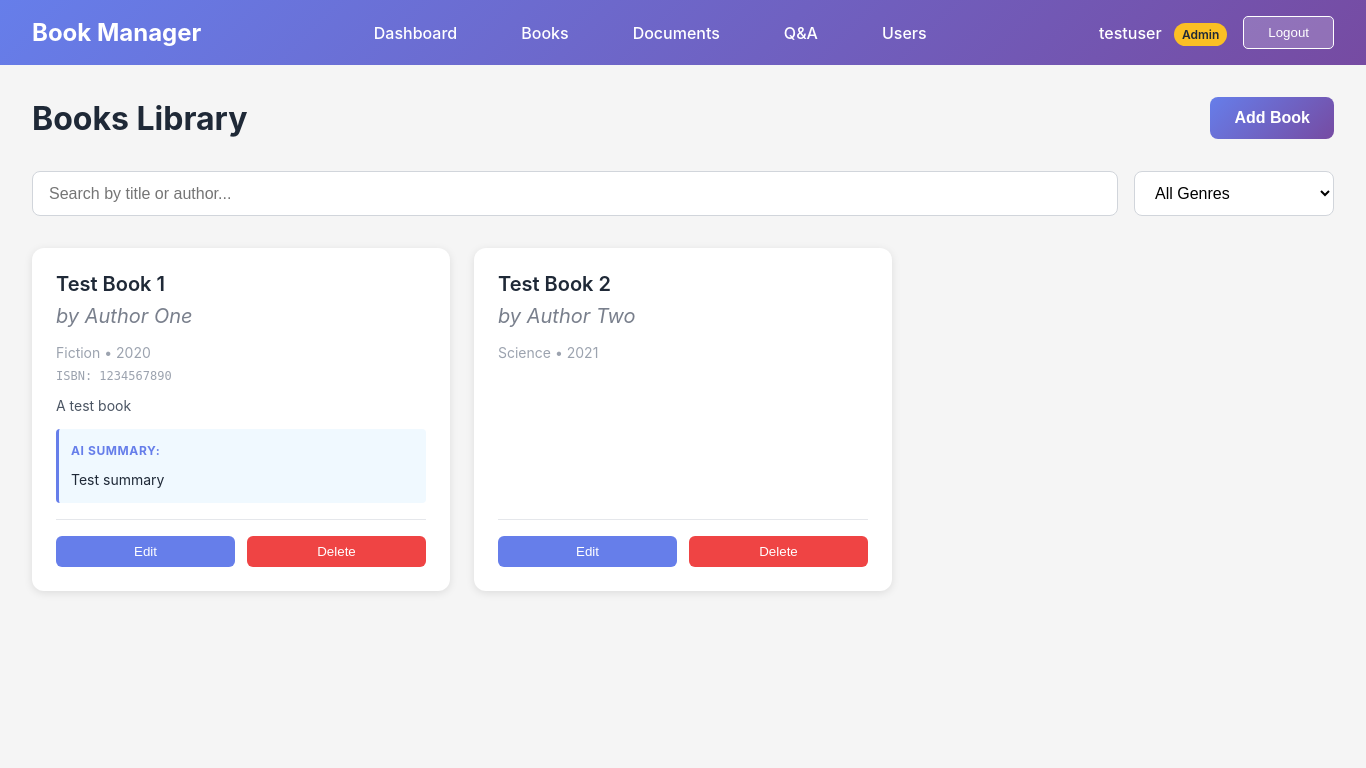
Test: Books Component › Edit book functionality › should handle update error
Click the button "Edit" below "Test summary": (146,552) [56,536,235,567]
(page scrolled)
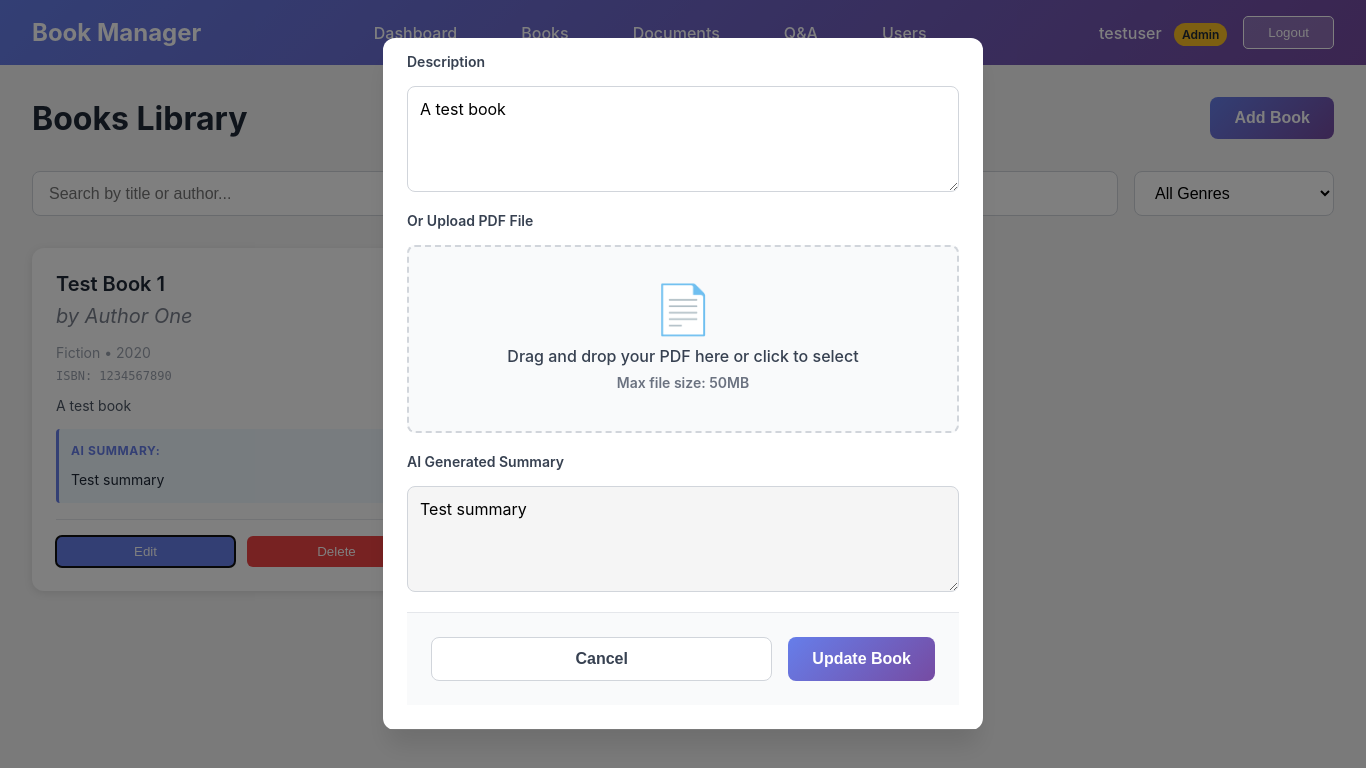
Click the button "Update Book": (862,659) [788,637,935,681]
(page scrolled)
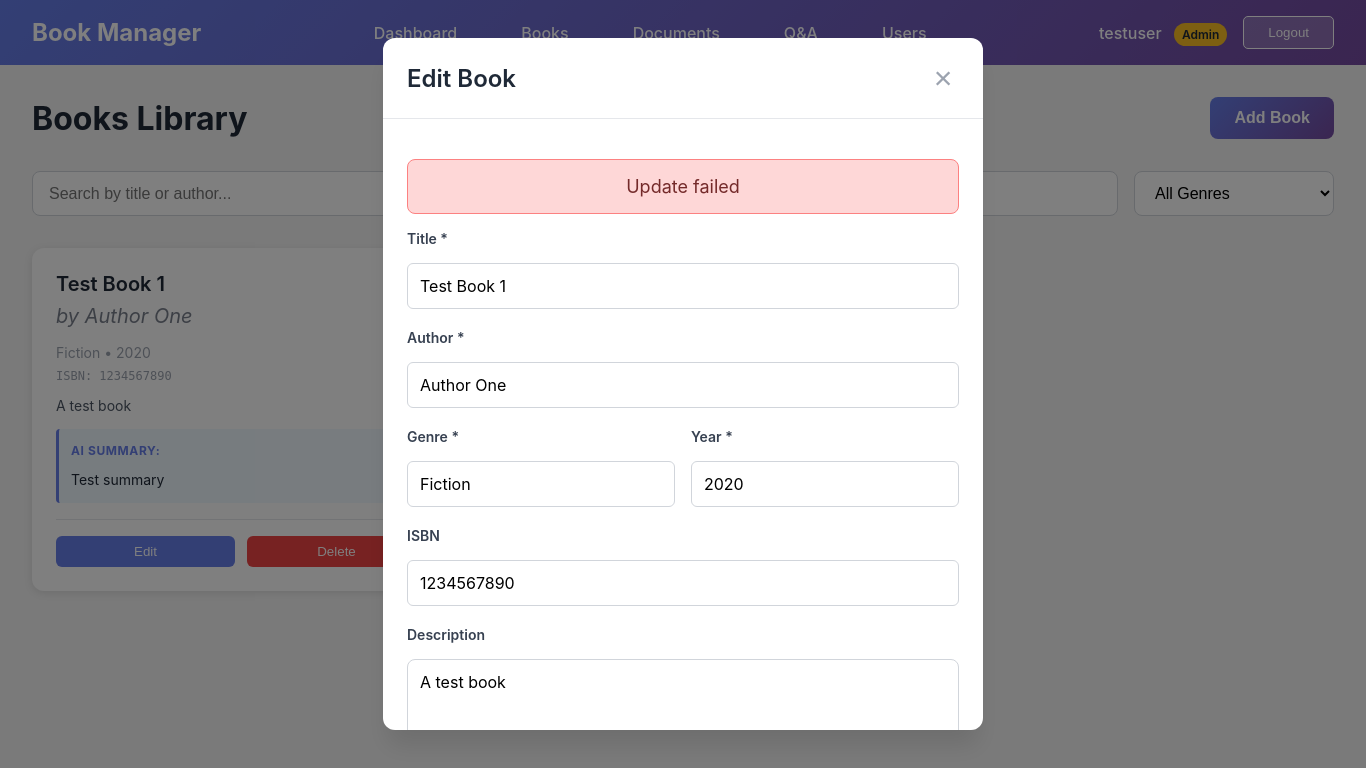
expect the text "Update failed" is shown: met, box [407,159,959,214]
